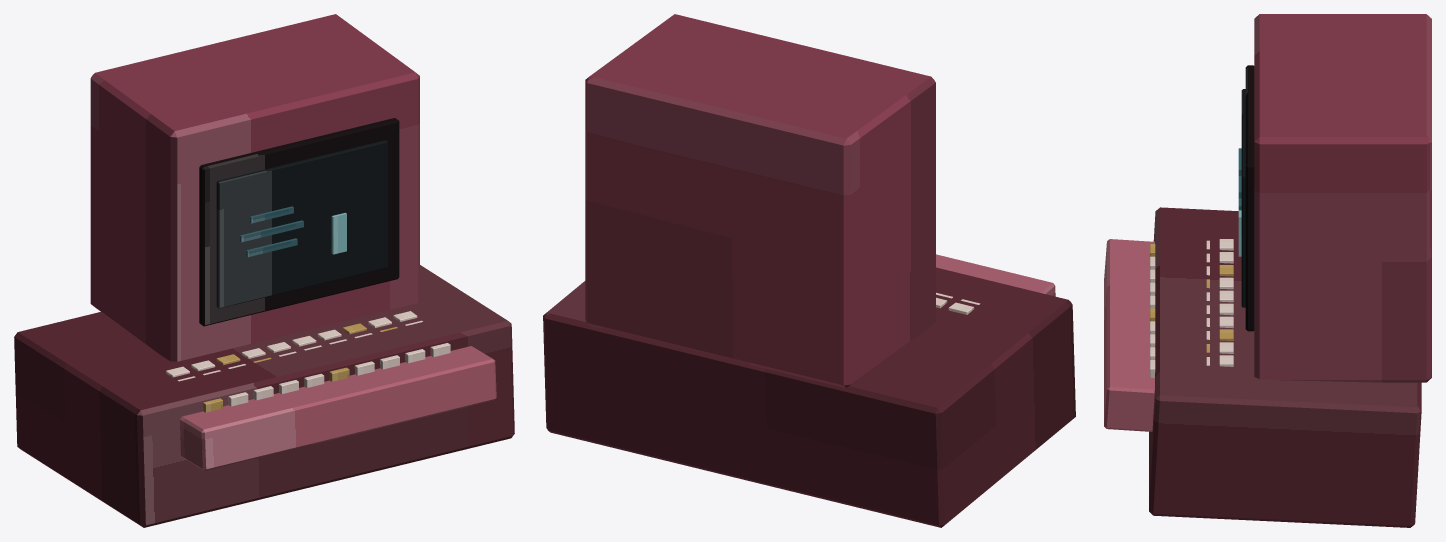
The model's file is retro_computer_terminal_burgundy.glb.
3 renders of one model, left to right at view 1: azimuth 30°, elevation 25°; view 2: azimuth 150°, elevation 25°; view 3: azimuth 270°, elevation 25°, orthographic. The views are drawn at different scales.
Visible parts, largest first — view 1: MonitorShell, TerminalWedge, MonitorGlow, KeyboardBody, MonitorFace, ScreenGlyph_4; view 2: MonitorShell, TerminalWedge, KeyboardBody; view 3: MonitorShell, TerminalWedge, KeyboardBody, MonitorFace, MonitorGlow.
Part boxes in pixels (x1,y1,x2,y2): MonitorShell: (90,14,419,361); TerminalWedge: (14,265,514,527); MonitorGlow: (216,140,387,308); KeyboardBody: (180,346,496,470); MonitorFace: (199,118,399,326); ScreenGlyph_4: (331,212,346,254); MonitorShell: (585,14,935,388); TerminalWedge: (543,267,1075,527); KeyboardBody: (936,254,1055,296); MonitorShell: (1254,14,1431,382); TerminalWedge: (1149,207,1421,527); KeyboardBody: (1104,239,1154,431); MonitorFace: (1245,65,1254,331); MonitorGlow: (1241,89,1245,307).
Size of the model in its own units: 1.02 by 0.914 by 0.7379.
1 material, 1 textured.
